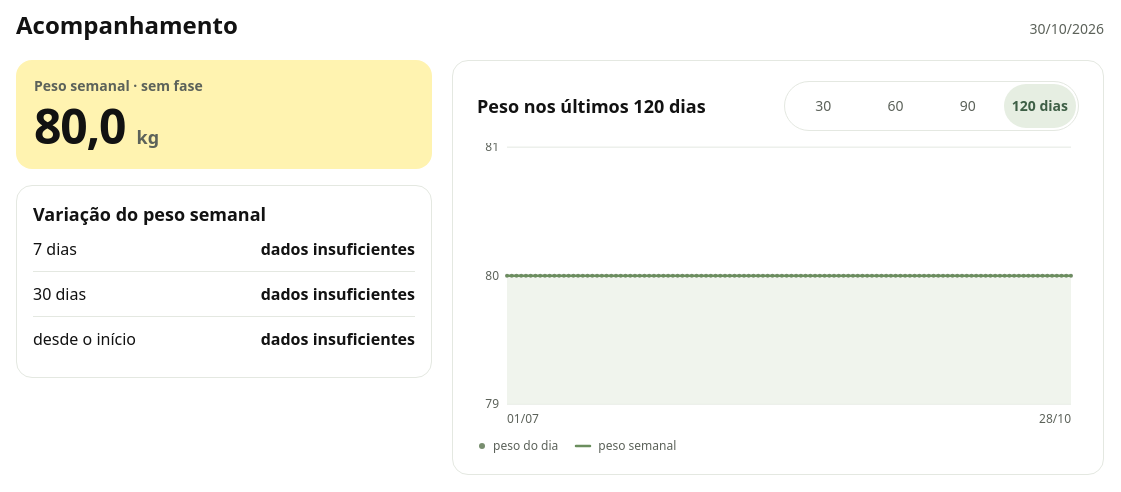
Scenario: o botão de período recorta a série até hoje
Click the radio button named "30 dias" at (823,106), box 787,84 -> 859,128
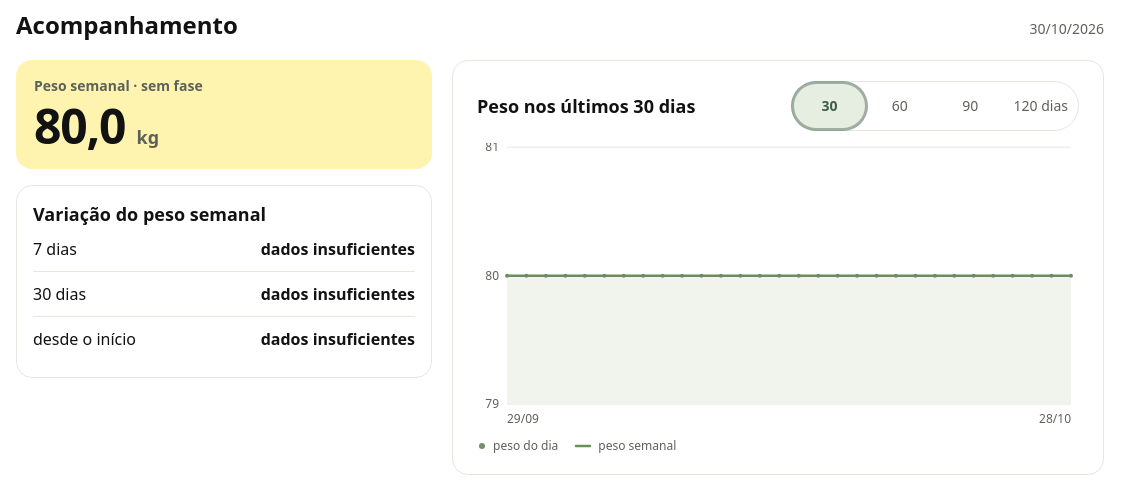
Expected: the heading "Peso nos últimos 30 dias" is shown, 477,94 -> 695,118
